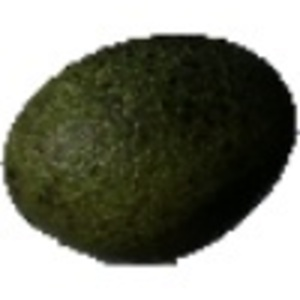abacate: (5, 30, 295, 269)
